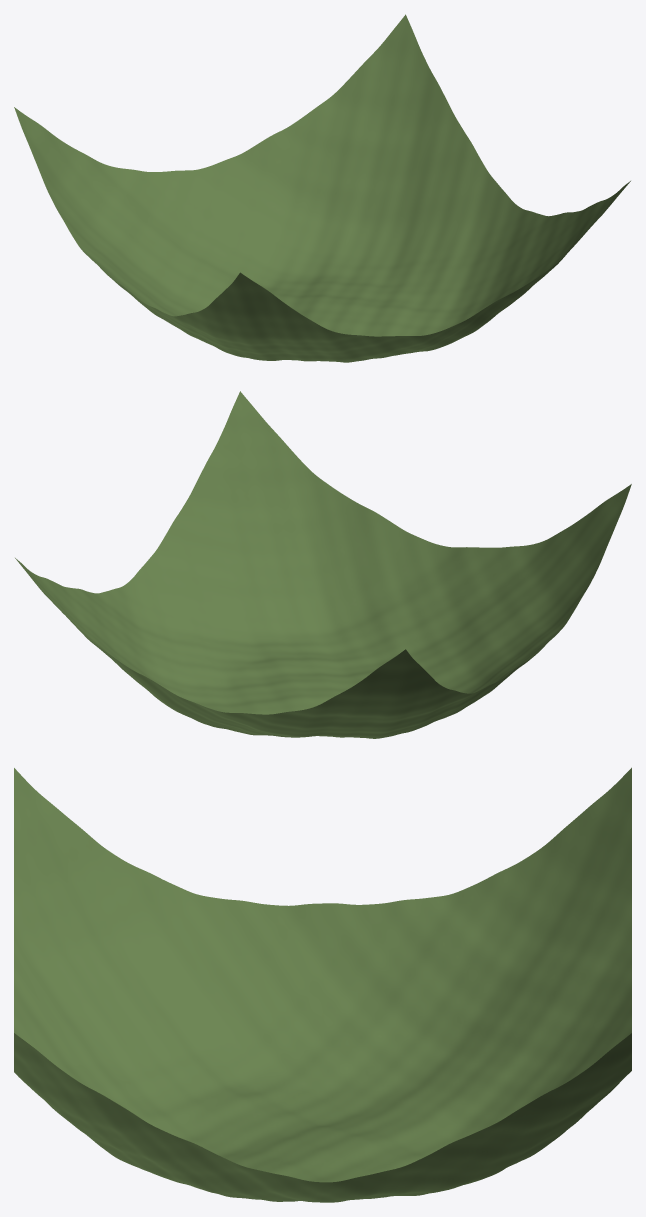
File: caverna.obj
The picture shows the model from 3 angles, top to bottom: view 1: azimuth 30°, elevation 25°; view 2: azimuth 150°, elevation 25°; view 3: azimuth 270°, elevation 25°; orthographic projection. The views are drawn at different scales.
Parts seen in each view (by area): view 1: part_0; view 2: part_0; view 3: part_0.
Boxes of the visible parts, x1=… form: part_0: x1=14, y1=14, x2=630, y2=362; part_0: x1=15, y1=391, x2=631, y2=738; part_0: x1=14, y1=767, x2=631, y2=1202.
Size of the model in its own units: 200 by 89.29 by 200.
